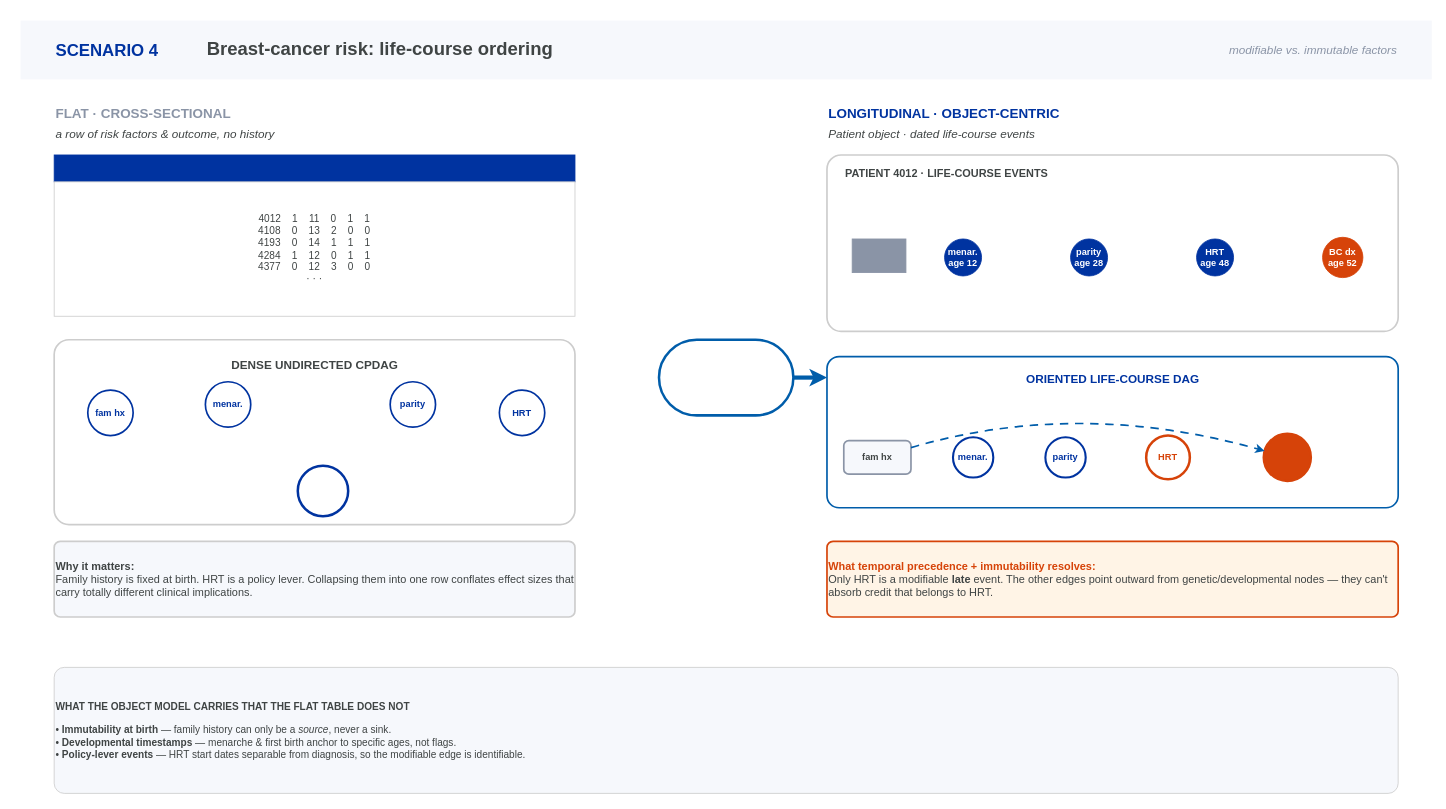
The diagram is 1446 pixels wide and 809 high, and some of its shapes have lost their labels. Here are the shapes that lost their labels. From the top down, the centre of each, then its label:
(x=314, y=168): id fam_hx menarche parity HRT BC
(x=878, y=255): fam hx birth
(x=725, y=377): life-course object
(x=1287, y=457): BC dx
(x=322, y=490): BC
